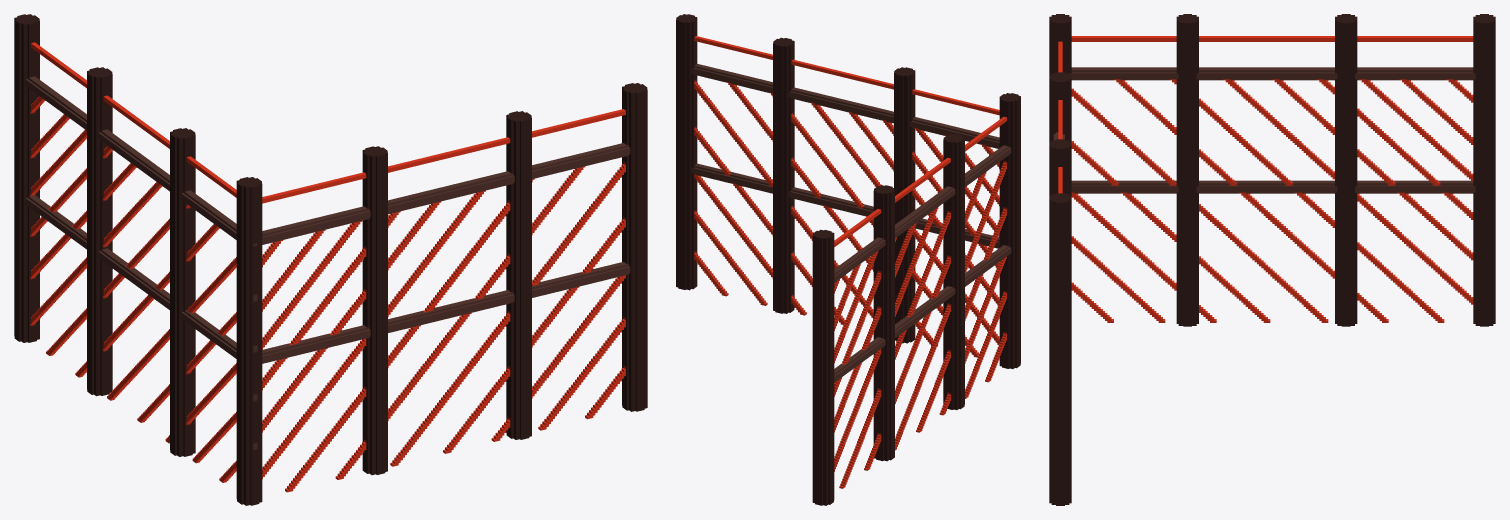
The model's file is Enviroment-4-CornerFence.fbx.
3 views of the same model, side by side, from view 1: azimuth 30°, elevation 25°; view 2: azimuth 150°, elevation 25°; view 3: azimuth 270°, elevation 25° (orthographic). The views are drawn at different scales.
Parts seen in each view (by area): view 1: CornerFence; view 2: CornerFence; view 3: CornerFence.
Part boxes in pixels (x1,y1,x2,y2): CornerFence: (14,14,647,505); CornerFence: (676,14,1020,505); CornerFence: (1049,14,1495,505).
Bounding box in the file's own units: 200 × 150 × 200.
